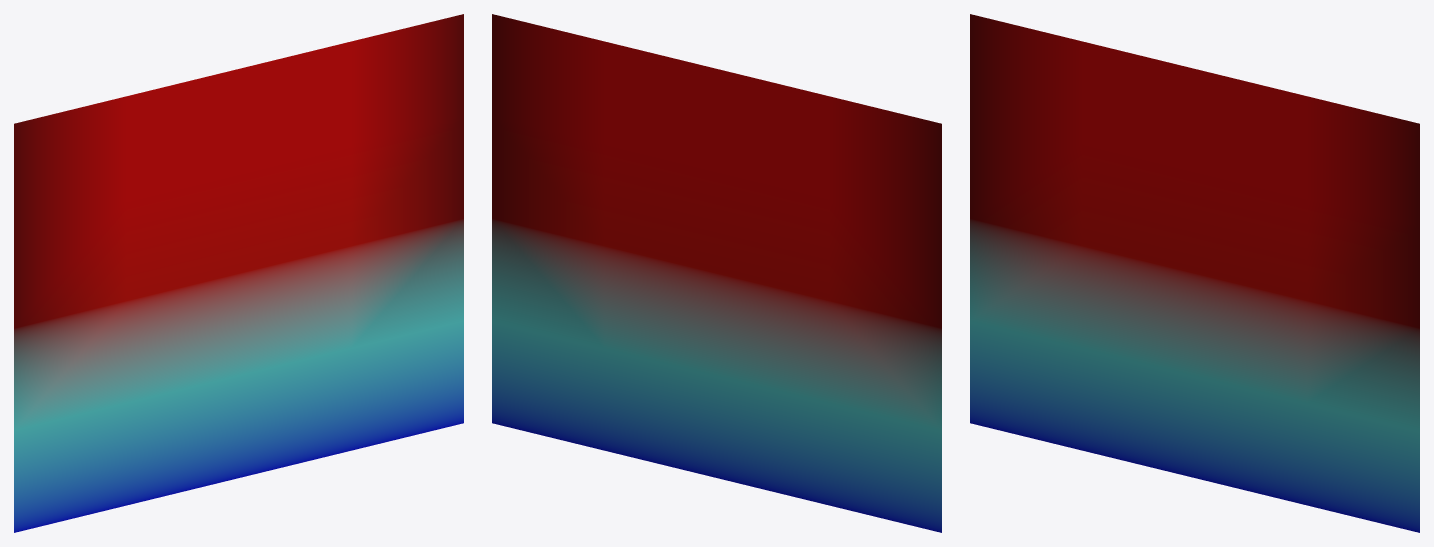
The picture shows the model from 3 angles, left to right: view 1: azimuth 30°, elevation 25°; view 2: azimuth 150°, elevation 25°; view 3: azimuth 330°, elevation 25°; orthographic projection.
Visible parts, largest first — view 1: Plane001; view 2: Plane001; view 3: Plane001.
Boxes of the visible parts, x1,y1,x2,y2 form: Plane001: [14, 14, 463, 532]; Plane001: [492, 14, 941, 532]; Plane001: [970, 14, 1419, 532].
Bounding box in the file's own units: 149 × 129 × 2.11e-05.
